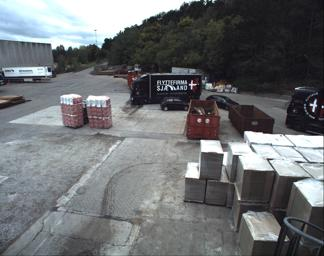rockwool_batts: (86, 95, 112, 129), (60, 92, 83, 127)
